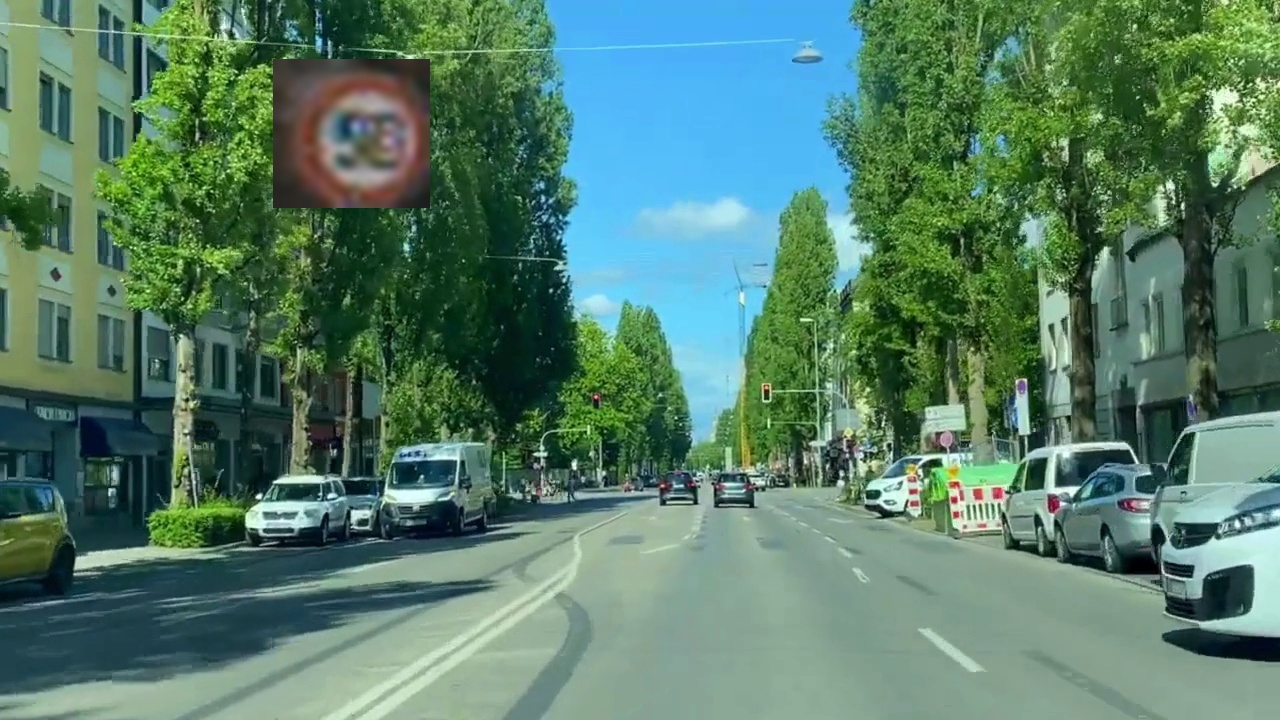Speed 50: (273, 59, 430, 208)
